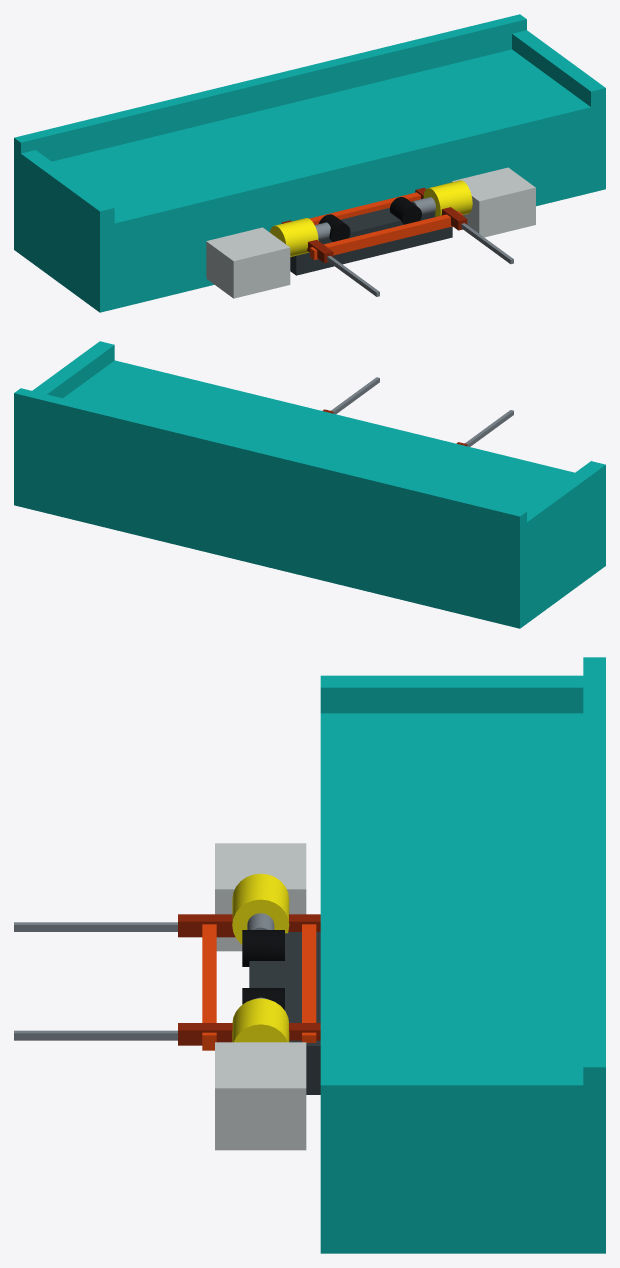
Rendered from unknown_cyan_cell.dae.
3 renders of one model, top to bottom at view 1: azimuth 30°, elevation 25°; view 2: azimuth 150°, elevation 25°; view 3: azimuth 270°, elevation 25°, orthographic. The views are drawn at different scales.
Visible parts, largest first — view 1: unknown_cyan_cell; view 2: unknown_cyan_cell; view 3: unknown_cyan_cell.
Part boxes in pixels (bbox=[...]): unknown_cyan_cell: bbox=[14, 14, 605, 312]; unknown_cyan_cell: bbox=[14, 341, 605, 628]; unknown_cyan_cell: bbox=[14, 657, 605, 1253].
Size of the model in its own units: 6.8 by 4.15 by 1.44.
